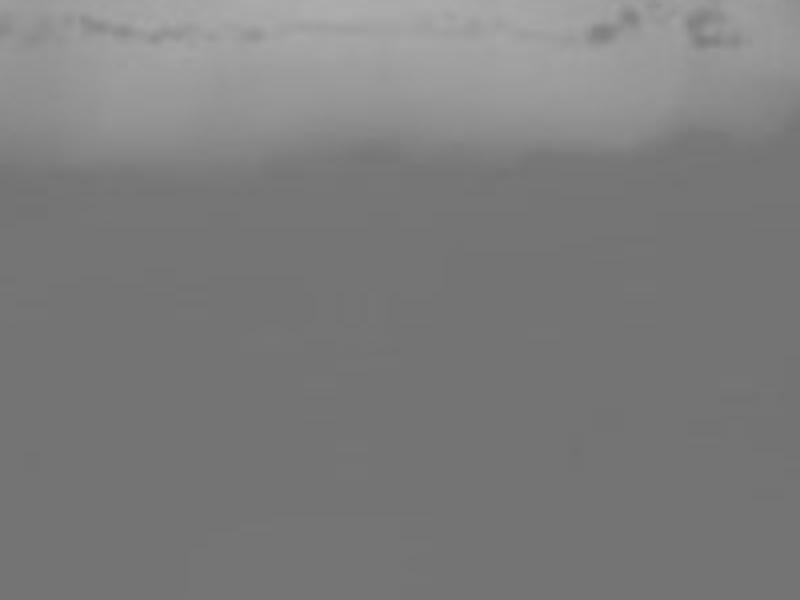defect: (686, 5, 729, 44), (584, 20, 614, 48), (72, 11, 104, 36), (233, 23, 267, 45), (618, 2, 644, 28), (109, 18, 135, 42), (167, 24, 194, 45), (139, 27, 164, 47)
